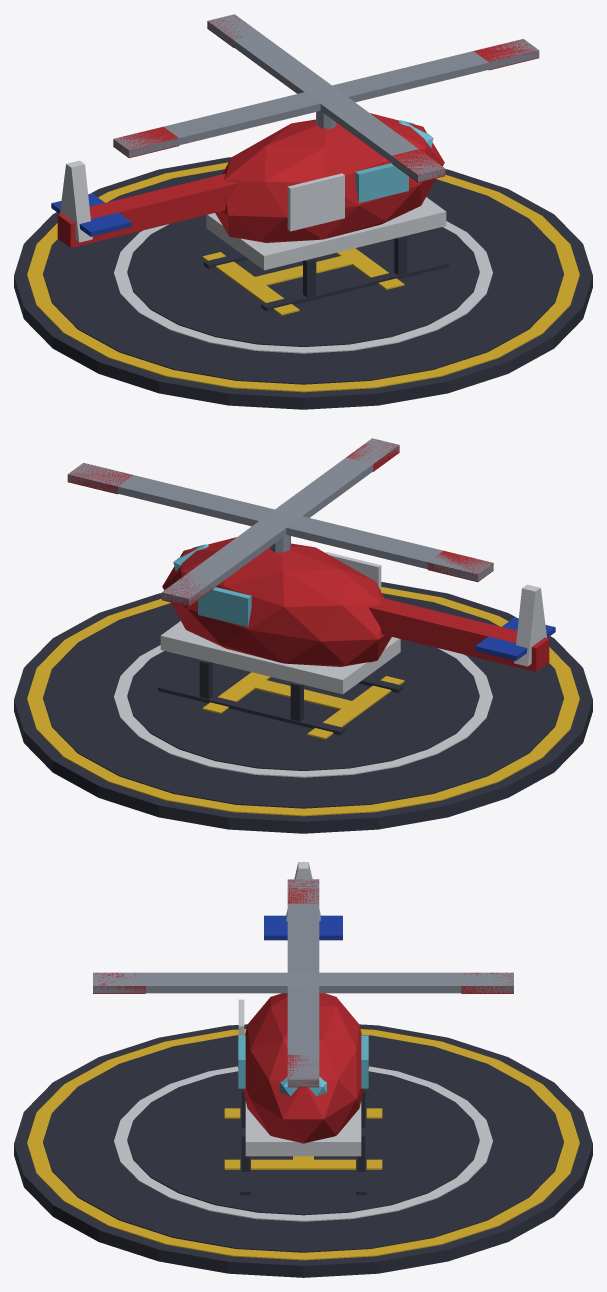
Rendered from Decor_HeroHQ_Heli.fbx.
3 views of the same model, one above another, from view 1: azimuth 30°, elevation 25°; view 2: azimuth 150°, elevation 25°; view 3: azimuth 270°, elevation 25° (orthographic).
Visible parts, largest first — view 1: Heli_Body; view 2: Heli_Body; view 3: Heli_Body.
Boxes of the visible parts, box(x1,y1,x2,y2) form: Heli_Body: box(14, 14, 592, 409); Heli_Body: box(14, 438, 592, 833); Heli_Body: box(14, 862, 592, 1277).
Size of the model in its own units: 22 by 7.85 by 22.
